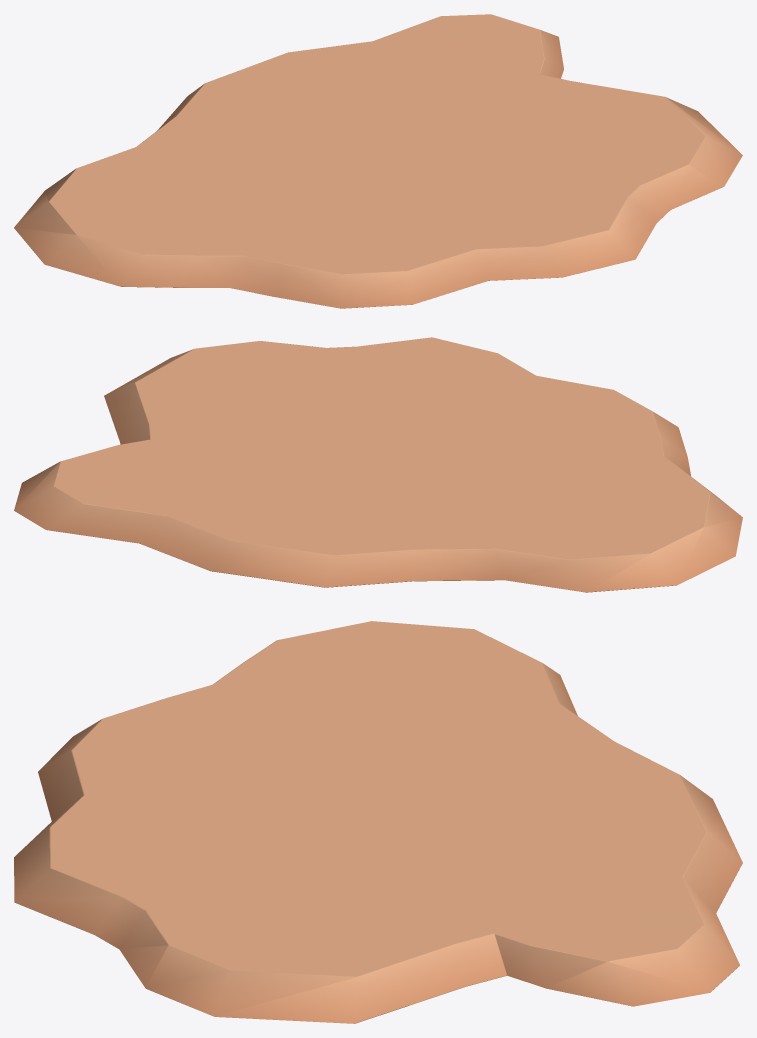
Rendered from kenney-pirate__patch-sand.glb.
The picture shows the model from 3 angles, top to bottom: view 1: azimuth 30°, elevation 25°; view 2: azimuth 150°, elevation 25°; view 3: azimuth 270°, elevation 25°; orthographic projection. The views are drawn at different scales.
Parts seen in each view (by area): view 1: patch-sand; view 2: patch-sand; view 3: patch-sand.
Part boxes in pixels (x1,y1,x2,y2): patch-sand: (14, 14, 742, 308); patch-sand: (14, 337, 742, 592); patch-sand: (14, 621, 742, 1023).
Bounding box in the file's own units: 7.73 × 0.2501 × 6.03.
1 material, 1 textured.
